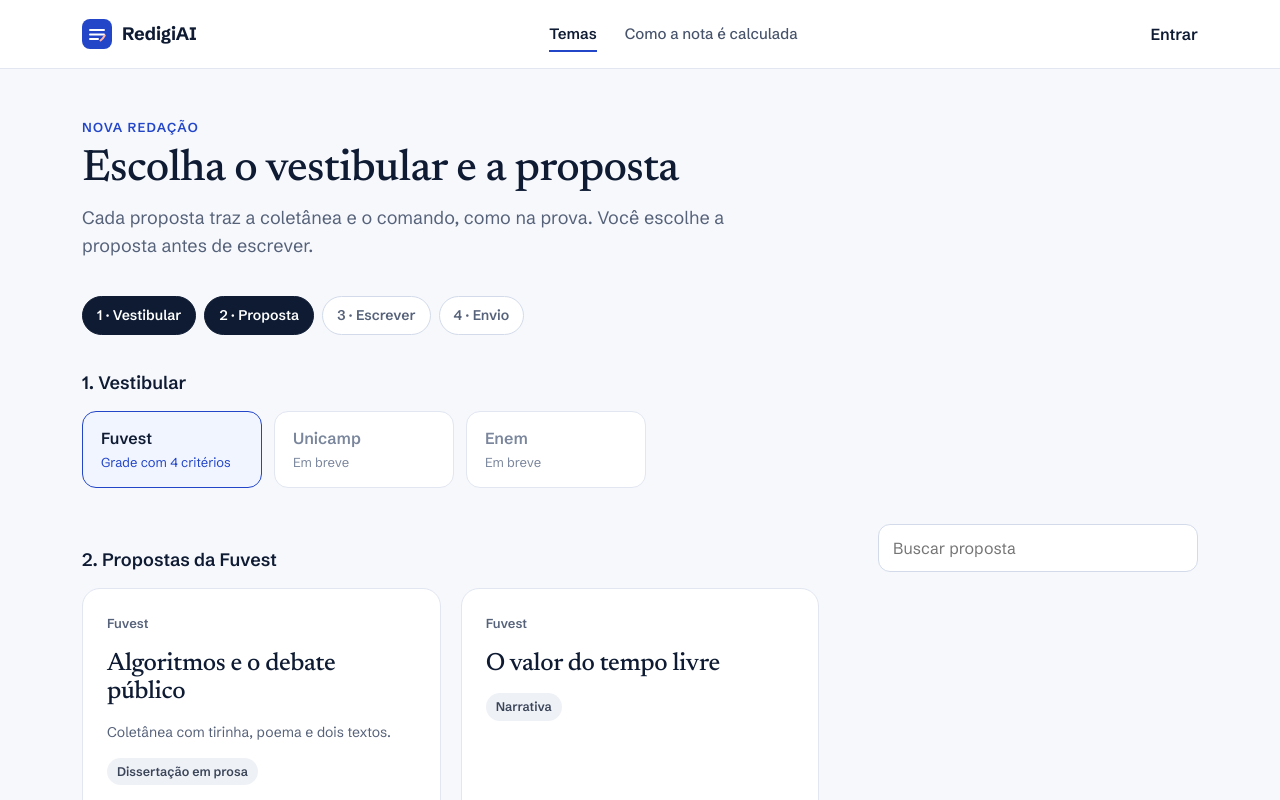
Test case: Propostas › busca com atraso e envia o termo para a API
Type "tempo" into the search field labelled "Buscar proposta" at (1038, 548), box [878, 524, 1198, 572]
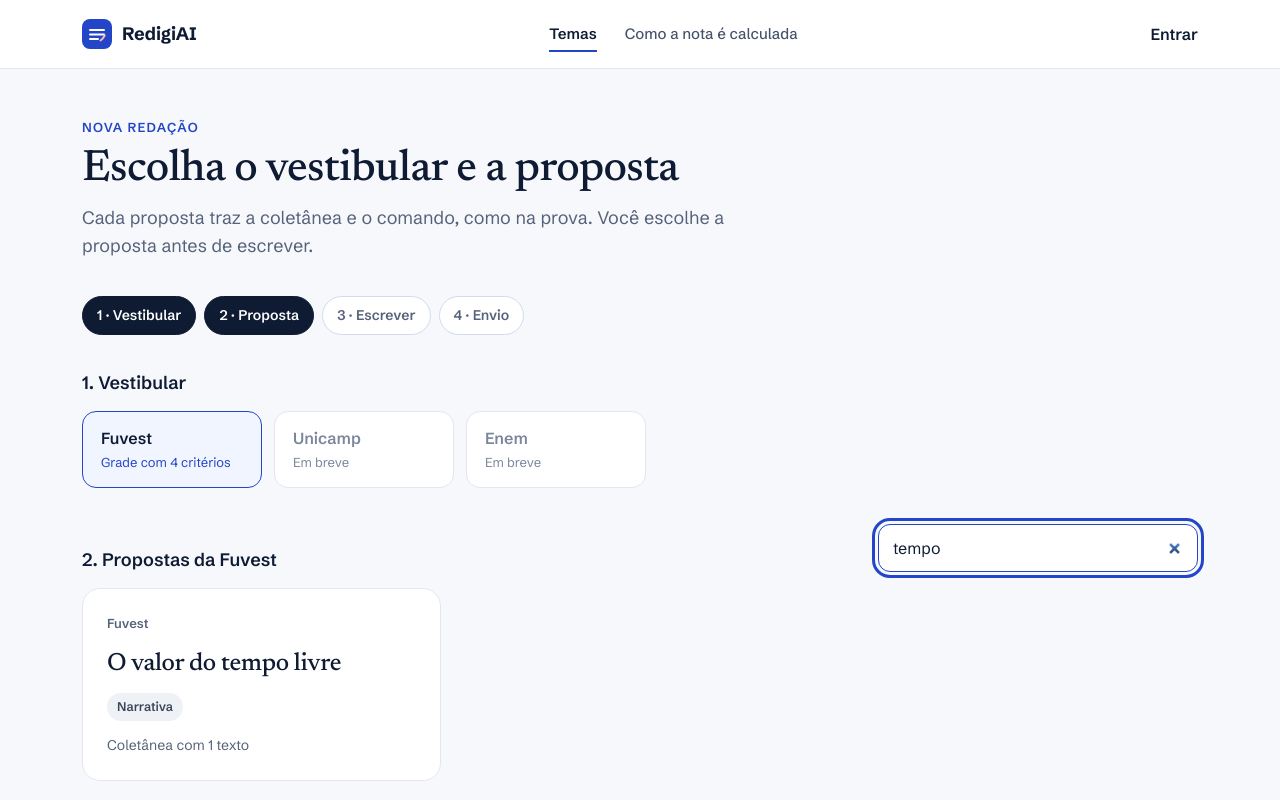
Check: the link "O valor do tempo livre" is shown, box [82, 588, 441, 781]
Check: the link "Algoritmos" is gone
